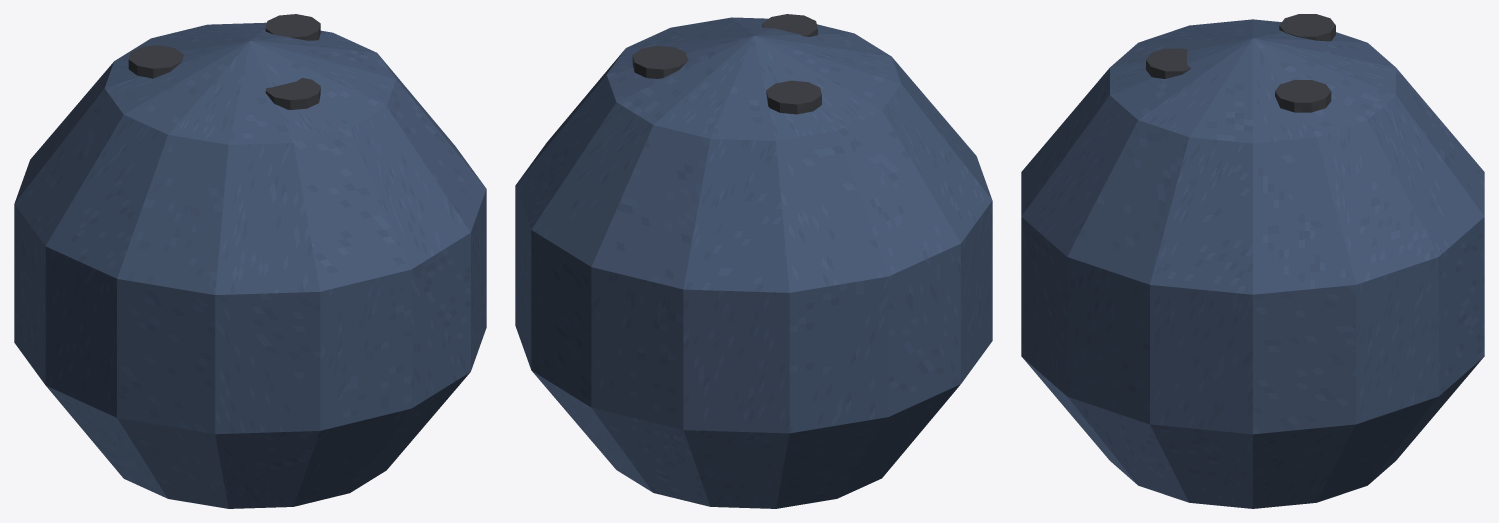
The model's file is bowling_ball.glb.
The picture shows the model from 3 angles, left to right: view 1: azimuth 30°, elevation 25°; view 2: azimuth 150°, elevation 25°; view 3: azimuth 270°, elevation 25°; orthographic projection.
Visible parts, largest first — view 1: block_ball body, block_finger hole (×3); view 2: block_ball body, block_finger hole (×3); view 3: block_ball body, block_finger hole (×3).
Part boxes in pixels (<box>): block_ball body: <box>14,22,486,508</box>; block_finger hole (×3): <box>128,14,320,109</box>; block_ball body: <box>515,17,992,508</box>; block_finger hole (×3): <box>632,14,821,114</box>; block_ball body: <box>1021,19,1484,508</box>; block_finger hole (×3): <box>1146,14,1335,112</box>.
Bounding box in the file's own units: 0.2059 × 0.216 × 0.2007.
Materials: 1 (1 with a texture image).
